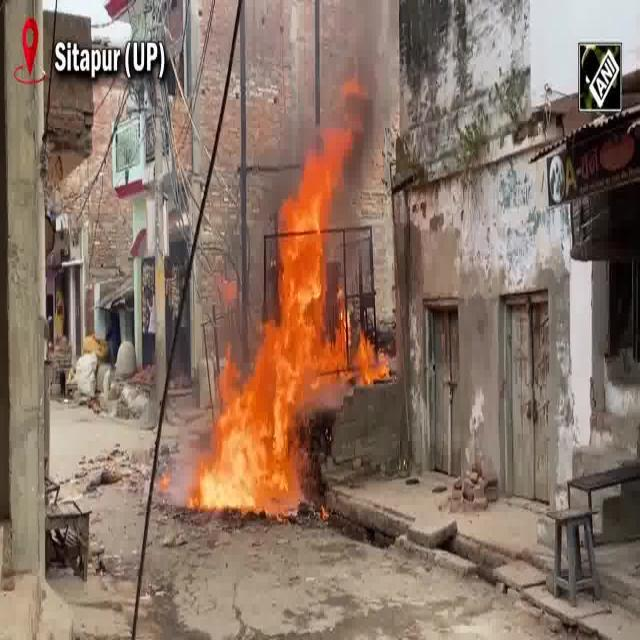Fire: (182, 73, 397, 520)
